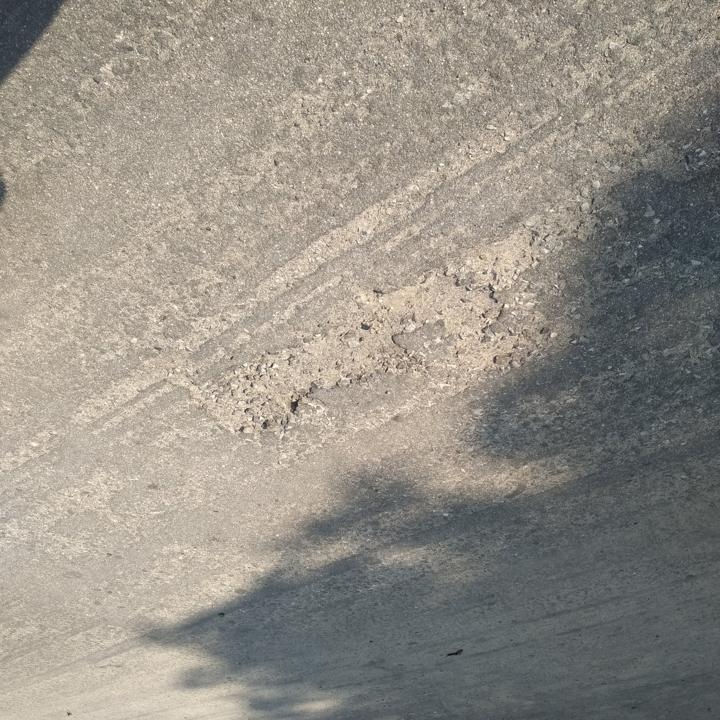pothole: (196, 226, 550, 441)
